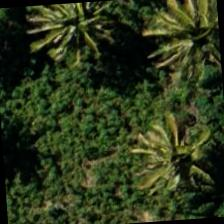Kelapa_Sawit: (131, 106, 223, 203), (30, 0, 125, 68), (148, 0, 223, 82)
